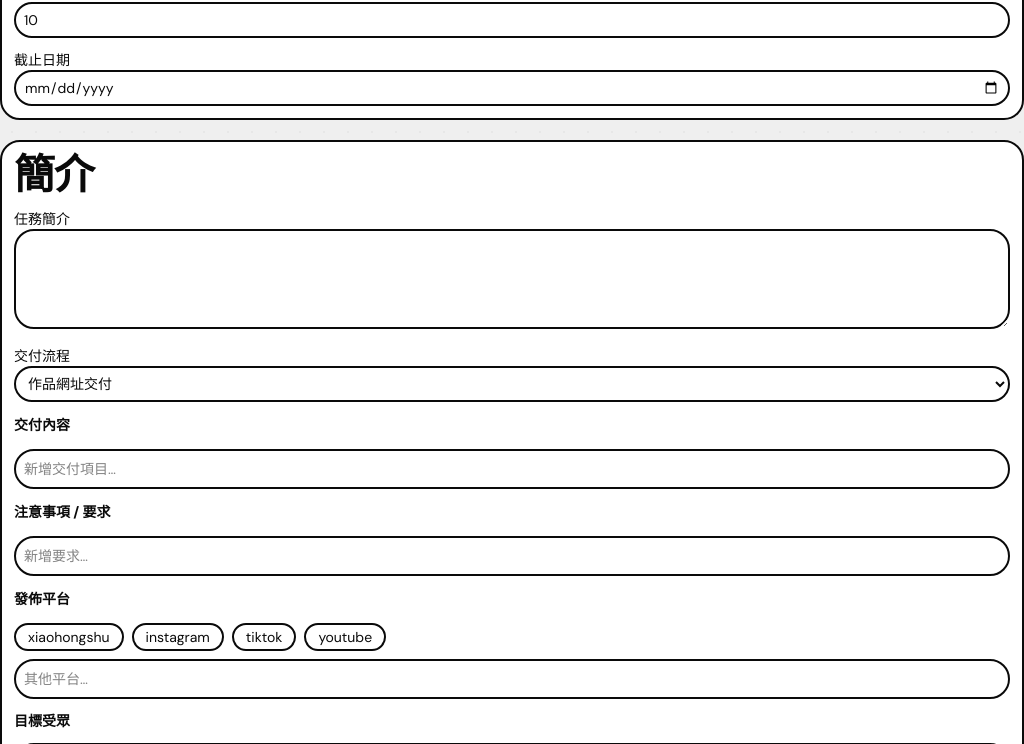
MissionEditor active workflow authoring › starts legacy and reveals active deliverable controls after workflow selection
(page scrolled)
Step 1. Select "交付項目及發布證明" in the dropdown labelled "交付流程" → (512, 384), box [14,366,1010,402]
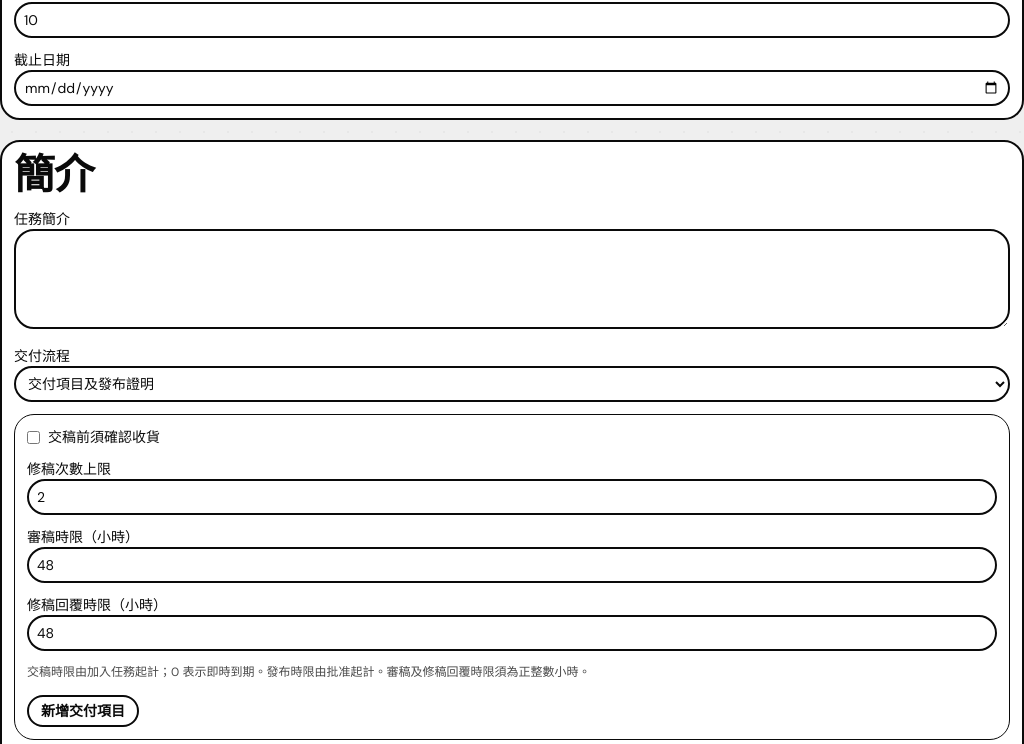
Now the button "新增交付項目" is enabled, box [27,695,139,727]
Now the checkbox labelled "交稿前須確認收貨" is shown, box [27,430,40,444]
Now the number field labelled "修稿次數上限" is shown, box [27,479,997,515]
